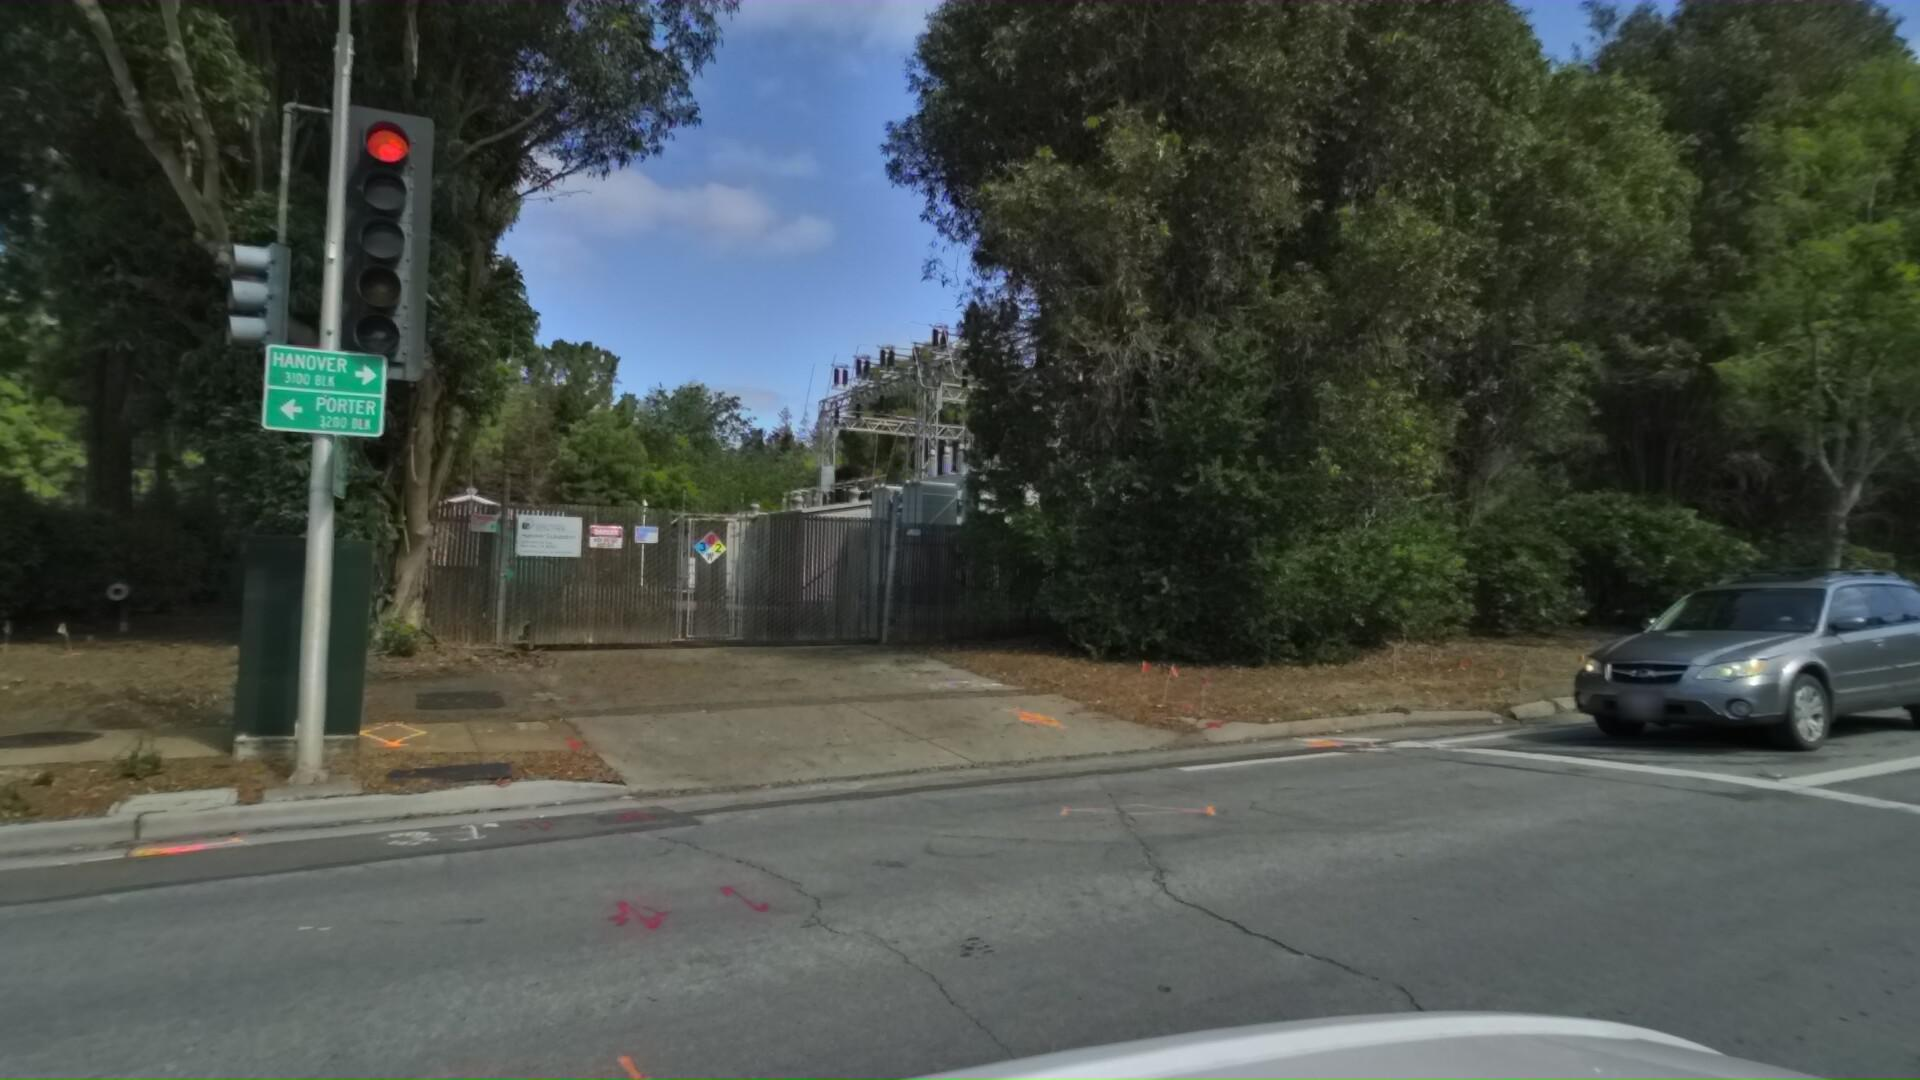car: (1499, 535, 1920, 773)
